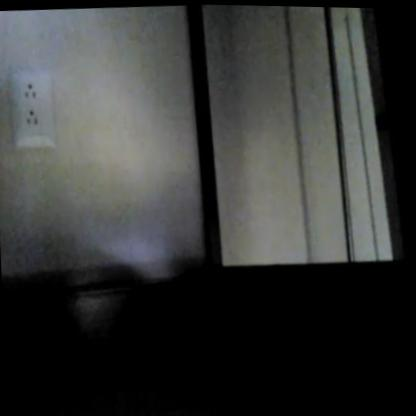OUTLET: (7, 69, 56, 149)
